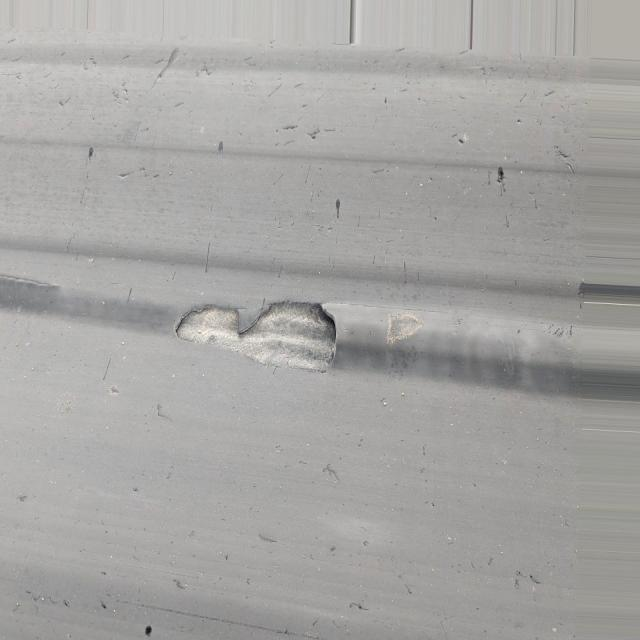Tear: (170, 286, 350, 375)
impact damage: (21, 267, 562, 417)
